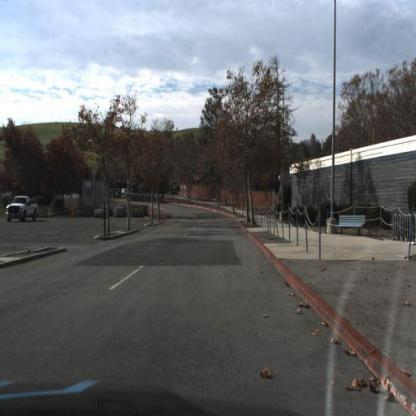truck: (7, 197, 40, 224)
